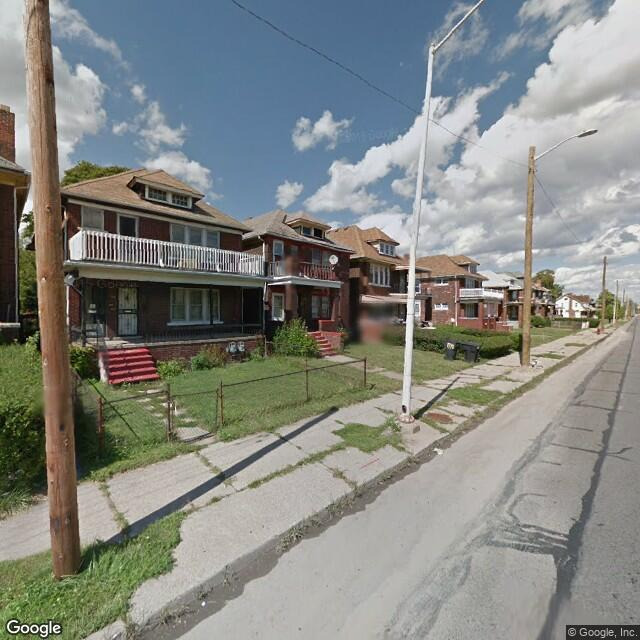litter: (433, 444, 442, 455), (199, 598, 207, 606)
